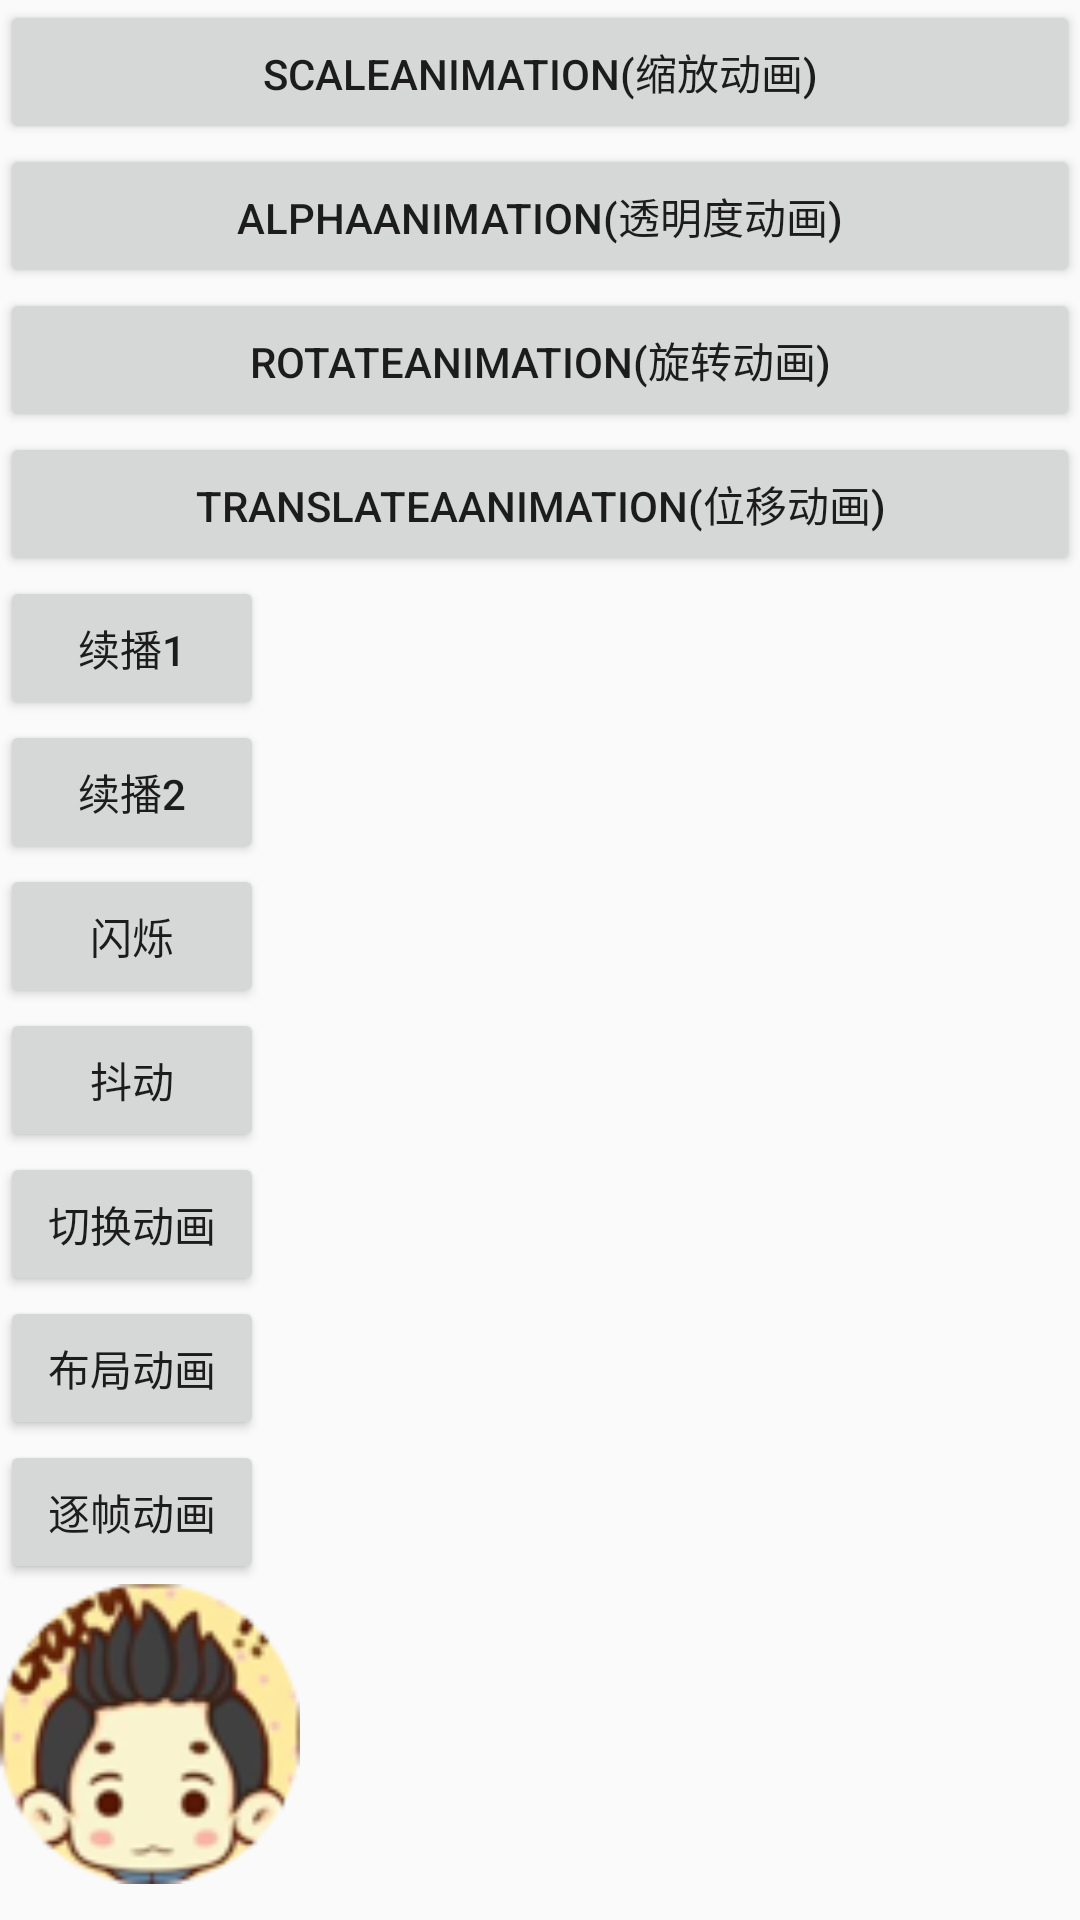

Screen size 1080w x 1920h. Icon name, then its center in pixels as [x,y]:
liva user: [150,1734]
